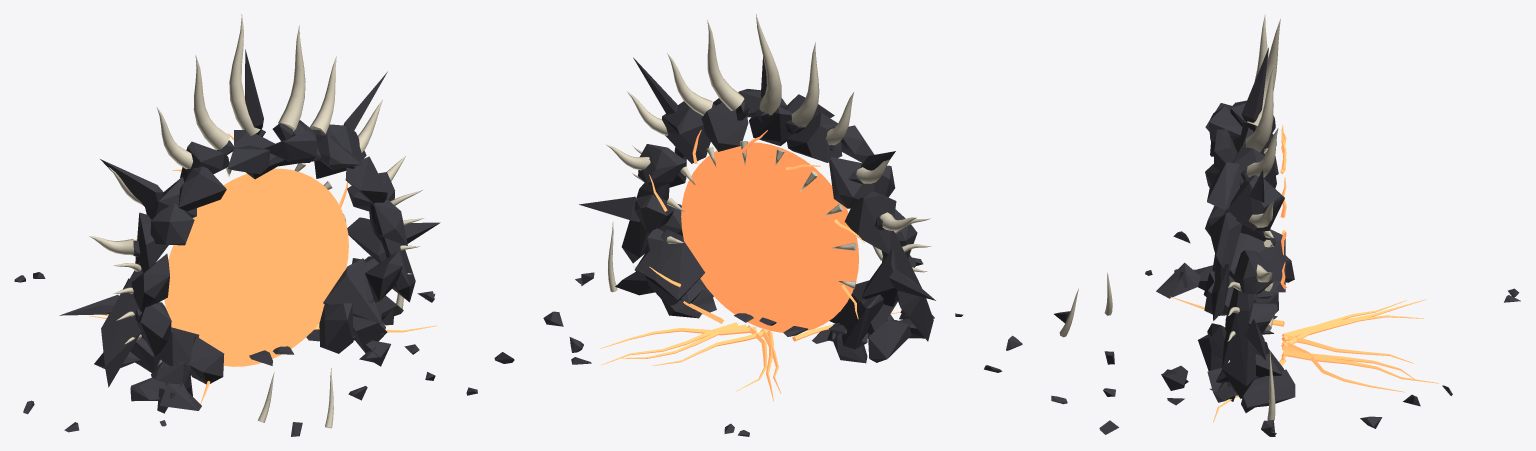
File: portal.glb
3 renders of one model, left to right at view 1: azimuth 30°, elevation 25°; view 2: azimuth 150°, elevation 25°; view 3: azimuth 270°, elevation 25°, orthographic. The views are drawn at different scales.
Parts seen in each view (by area): view 1: portal, vortex; view 2: portal, vortex; view 3: portal.
Part boxes in pixels (left/top/right/bottom): portal: left=14, top=14, right=514, bottom=436; vortex: left=164, top=168, right=348, bottom=366; portal: left=543, top=14, right=1022, bottom=436; vortex: left=681, top=142, right=858, bottom=332; portal: left=1051, top=14, right=1520, bottom=436.
Bounding box in the file's own units: 9.25 × 7.29 × 8.8.
